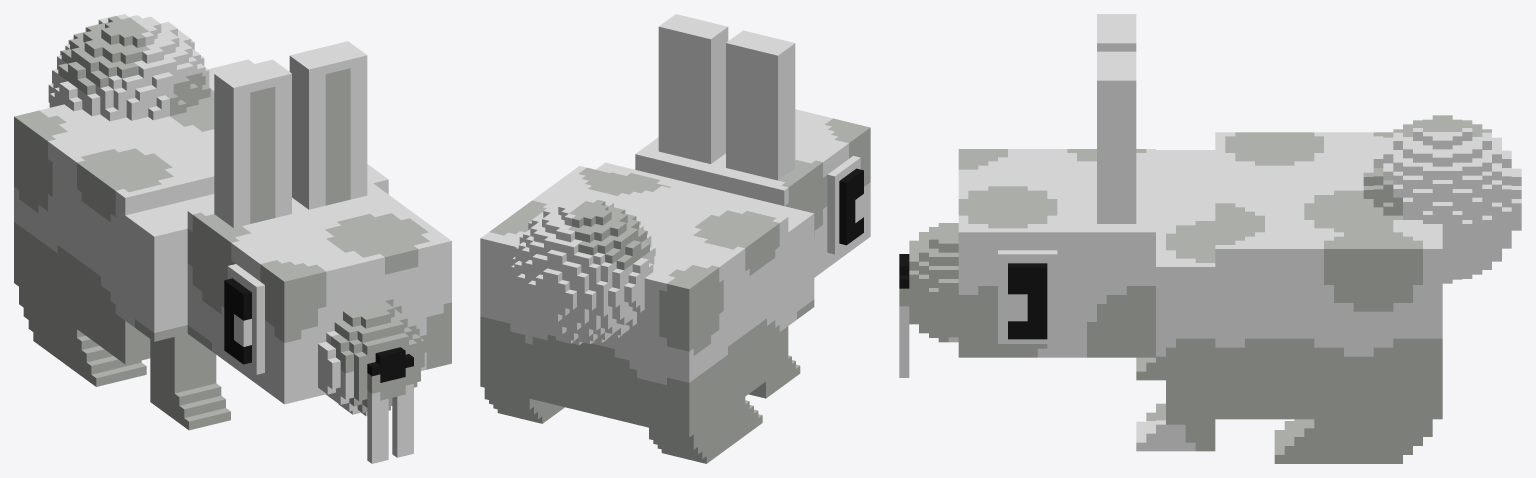
The model's file is Rabbit.obj.
The picture shows the model from 3 angles, left to right: view 1: azimuth 30°, elevation 25°; view 2: azimuth 150°, elevation 25°; view 3: azimuth 270°, elevation 25°; orthographic projection. The views are drawn at different scales.
Visible parts, largest first — view 1: Rabbit; view 2: Rabbit; view 3: Rabbit.
Part boxes in pixels (x1=…): Rabbit: x1=14, y1=14, x2=451, y2=463; Rabbit: x1=480, y1=14, x2=870, y2=463; Rabbit: x1=899, y1=14, x2=1521, y2=463.
Size of the model in its own units: 28 by 40 by 63.
1 material, 1 textured.
